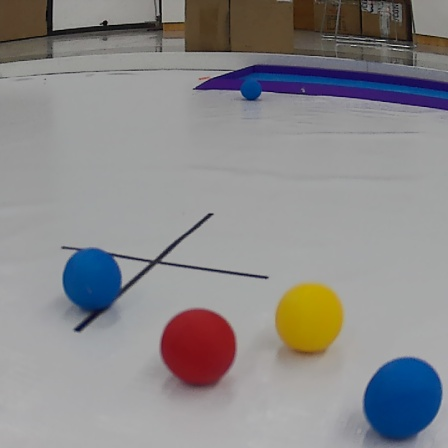blue: (360, 355, 443, 442), (57, 246, 126, 311), (236, 76, 266, 100)
blue_aim: (199, 61, 448, 116)
red: (160, 309, 237, 385)
yellow: (275, 280, 345, 355)
